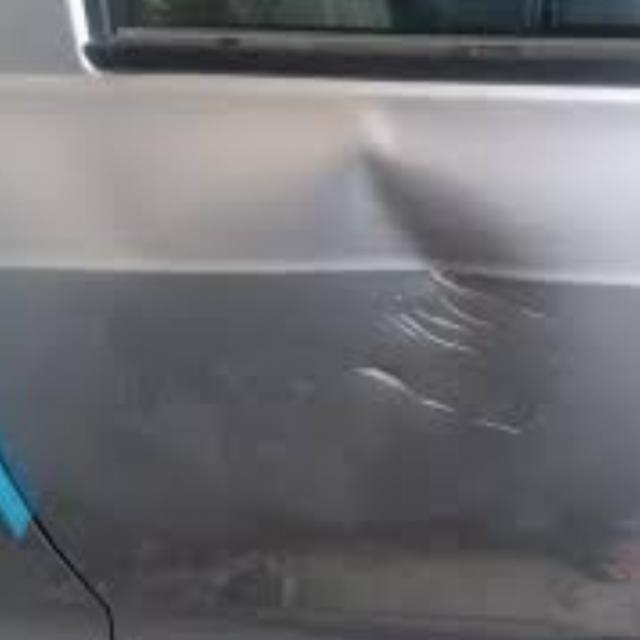dents: (333, 136, 585, 453)
